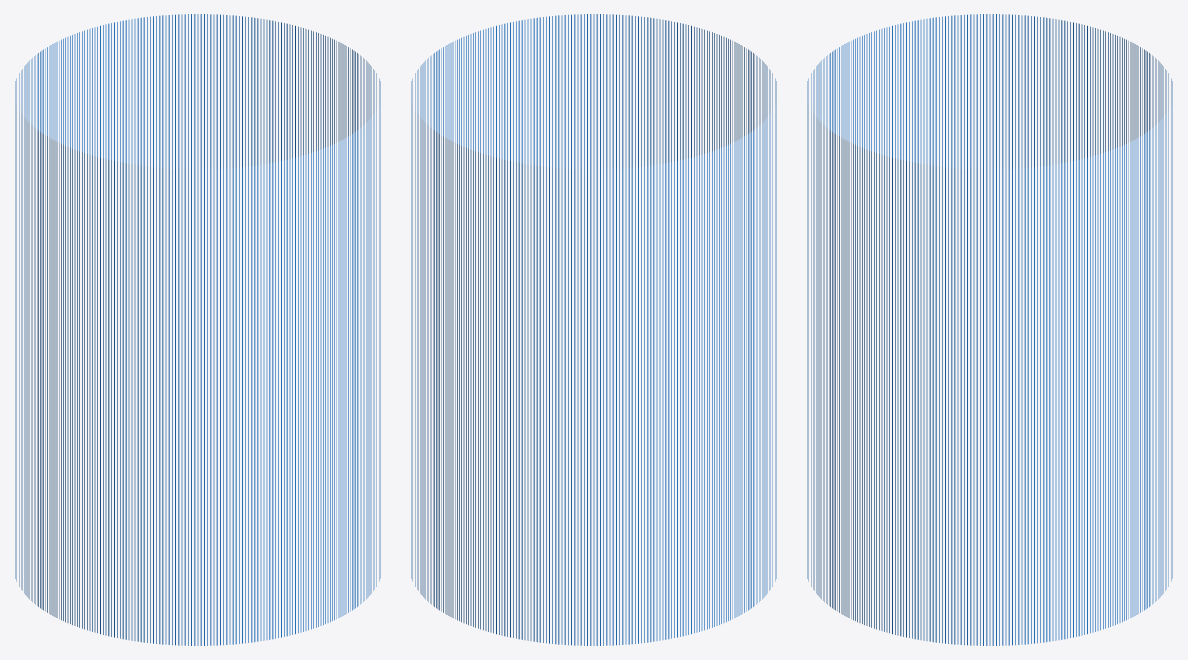
Rendered from grate.gltf.
The picture shows the model from 3 angles, left to right: view 1: azimuth 30°, elevation 25°; view 2: azimuth 150°, elevation 25°; view 3: azimuth 270°, elevation 25°; orthographic projection.
Parts seen in each view (by area): view 1: Plane.001; view 2: Plane.001; view 3: Plane.001.
Boxes of the visible parts, <box> form: Plane.001: <box>15,14,380,645</box>; Plane.001: <box>411,14,776,645</box>; Plane.001: <box>807,14,1172,645</box>.
Size of the model in its own units: 7.47 by 10.67 by 7.47.
